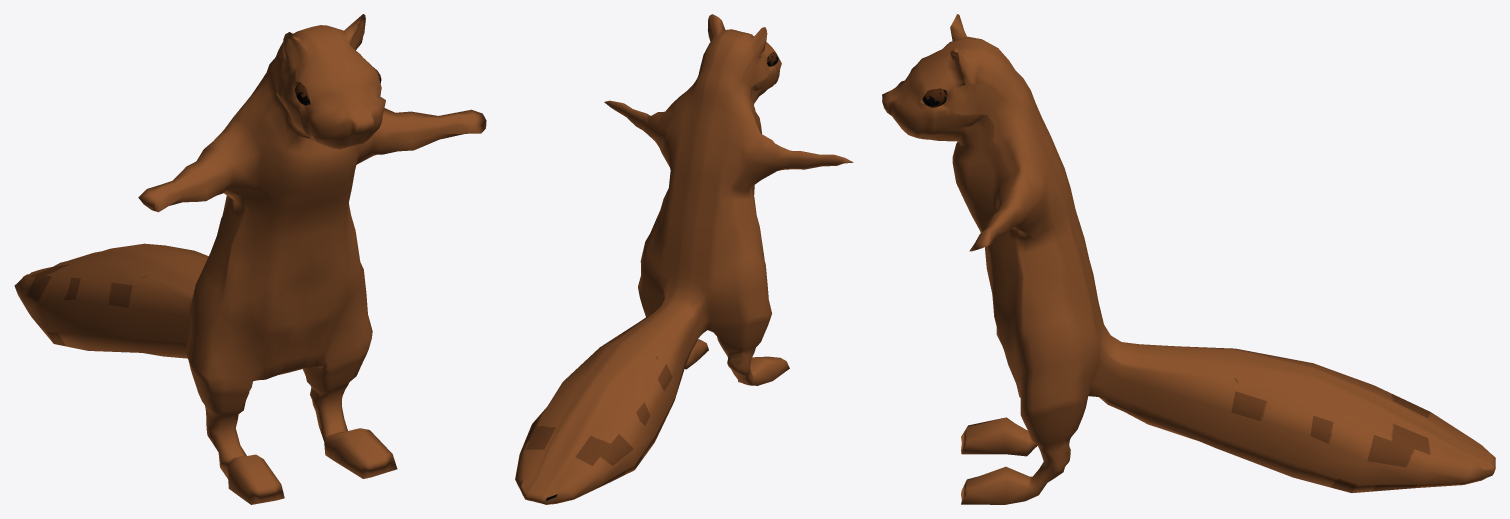
The model's file is ardilla.obj.
3 views of the same model, side by side, from view 1: azimuth 30°, elevation 25°; view 2: azimuth 150°, elevation 25°; view 3: azimuth 270°, elevation 25° (orthographic). The views are drawn at different scales.
Parts seen in each view (by area): view 1: project_squirrel_magician_kopie_Mesh; view 2: project_squirrel_magician_kopie_Mesh; view 3: project_squirrel_magician_kopie_Mesh.
Part boxes in pixels (box(x1,y1,x2,y2)): project_squirrel_magician_kopie_Mesh: box(14, 14, 486, 504); project_squirrel_magician_kopie_Mesh: box(515, 14, 853, 504); project_squirrel_magician_kopie_Mesh: box(882, 14, 1495, 504).
Bounding box in the file's own units: 12.44 × 16.16 × 20.33.
1 material, 1 textured.
